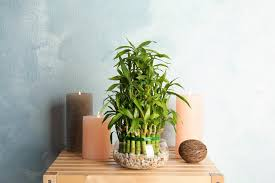bamboo: (104, 40, 175, 152)
